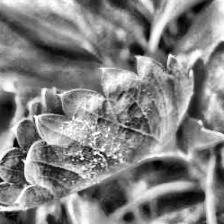Powdery Mildew Leaf: (0, 53, 195, 212)
